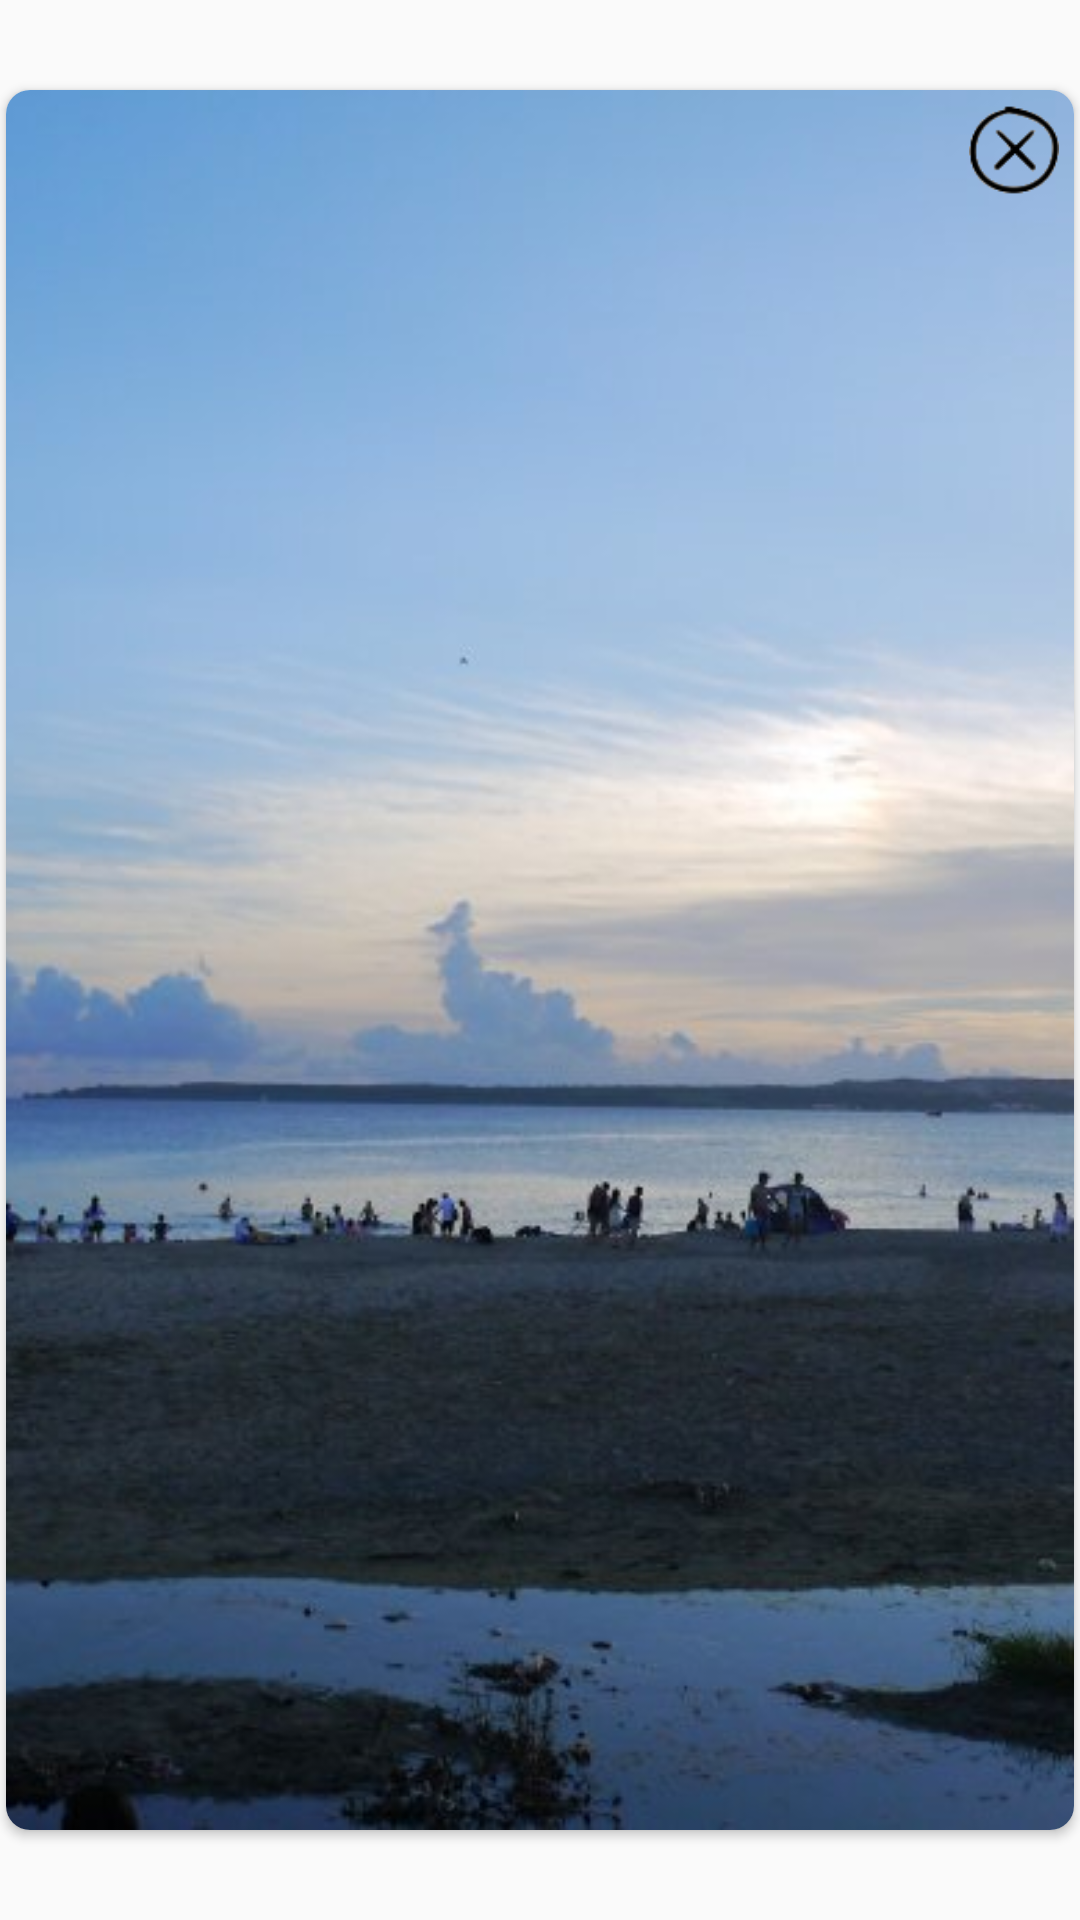

Point at icon controls on the screen. Image size 1080px×1920px, points as (x,y).
close: (1014,150)
